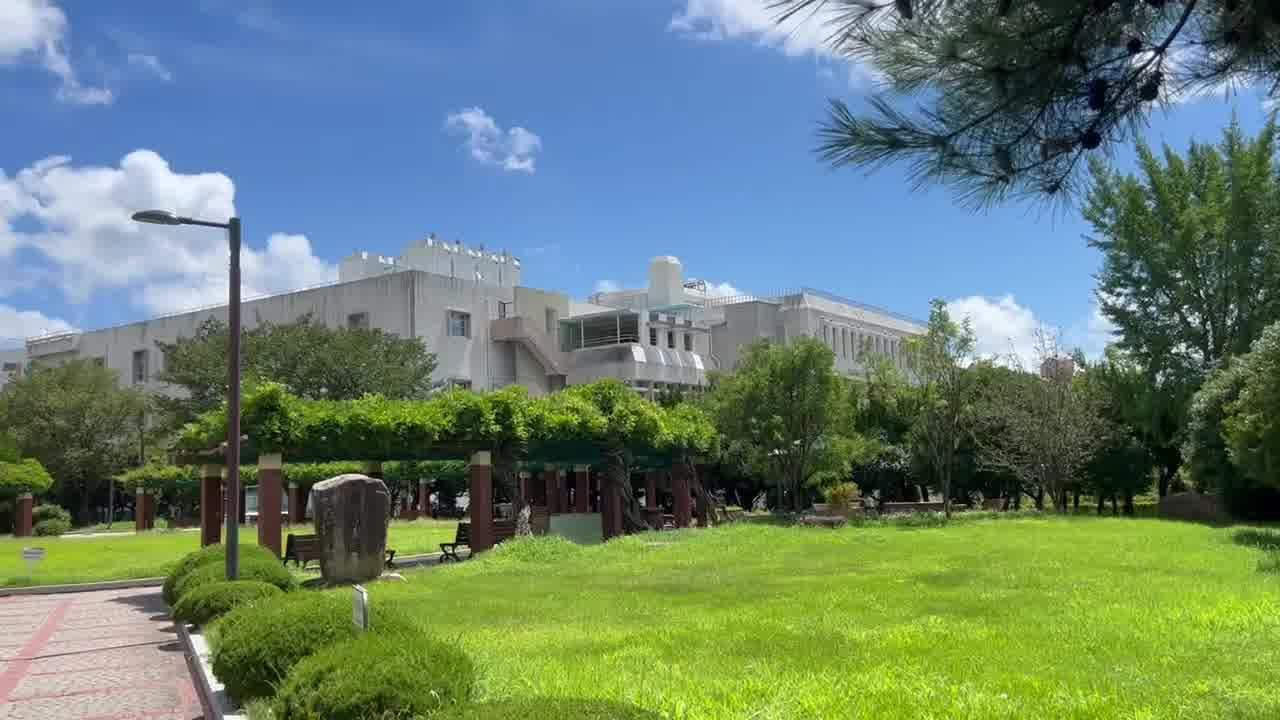building: (403, 238, 744, 384)
